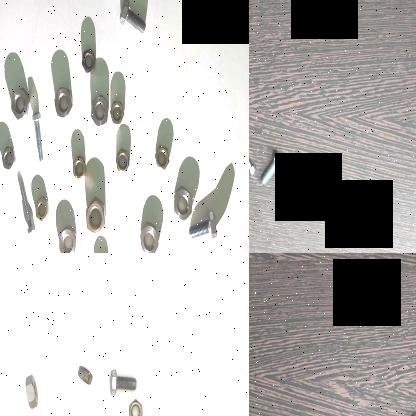Bolts: (322, 184, 358, 246), (258, 142, 284, 194), (16, 182, 36, 235), (119, 0, 147, 37), (187, 209, 219, 240), (106, 366, 138, 396), (32, 110, 44, 166), (249, 134, 255, 180)
NUTS: (173, 184, 194, 224), (86, 198, 108, 236), (22, 370, 40, 413), (54, 86, 73, 122), (10, 88, 30, 122), (140, 220, 160, 253), (90, 96, 110, 128), (74, 360, 94, 390), (154, 141, 171, 173), (80, 43, 96, 76), (58, 224, 76, 253), (35, 194, 50, 224), (110, 98, 126, 126), (71, 154, 87, 180), (116, 146, 130, 174), (2, 146, 16, 172), (126, 398, 144, 416)
